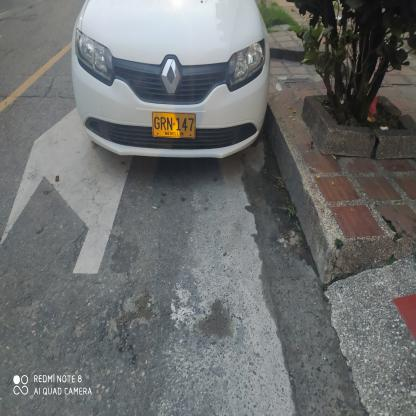placa: (149, 109, 200, 143)
